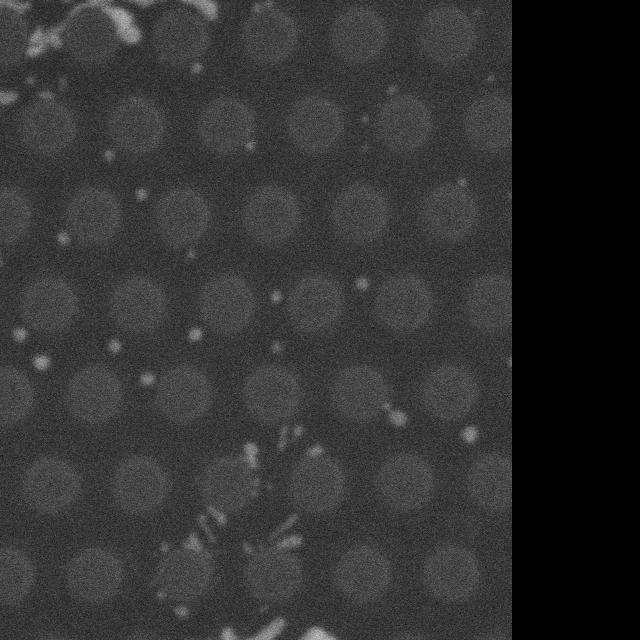Dendrite: (29, 0, 164, 58), (188, 0, 215, 18), (2, 87, 4, 87)
